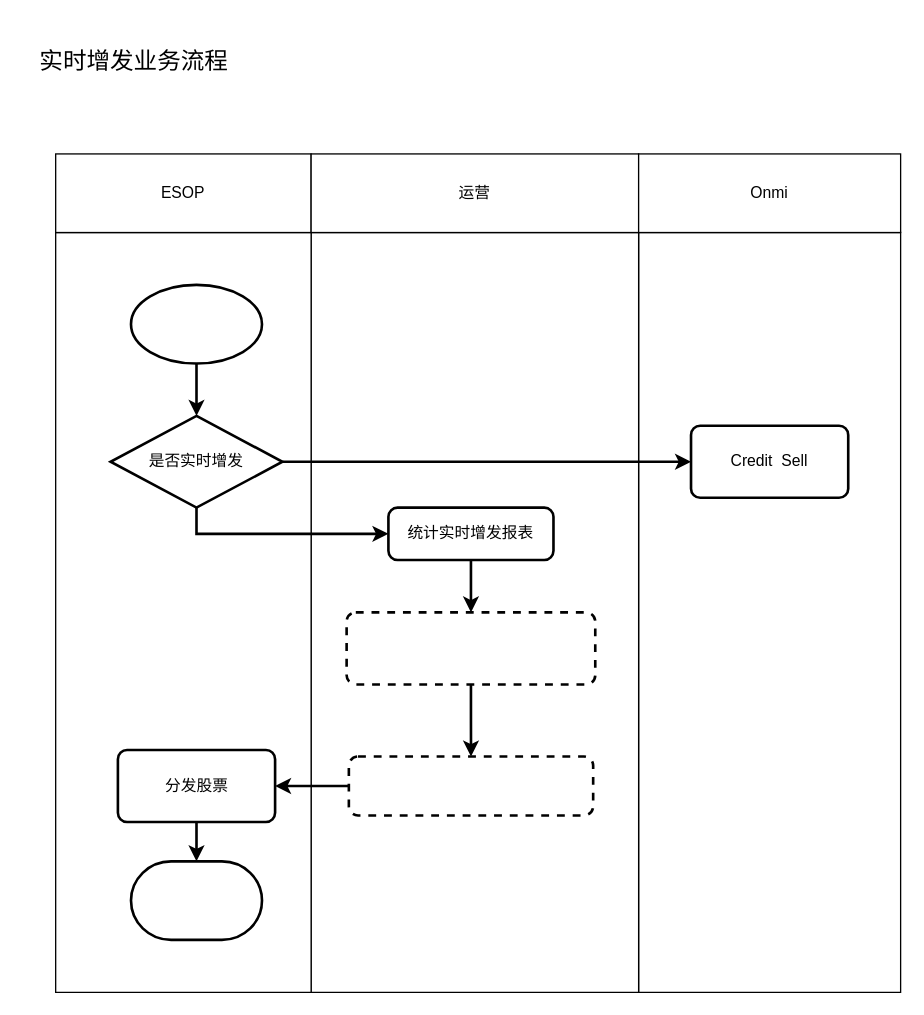
Some shapes in this 924 by 1015 pixel diagram are drawn without their labels. Each missing label, with the box of its shape:
分发股票完成: (129, 859, 263, 941)
数据岗通知公司和结算需增发股数: (345, 610, 596, 685)
结算收到增股后，通知数据岗: (347, 755, 594, 816)
行权申请: (129, 283, 263, 364)
